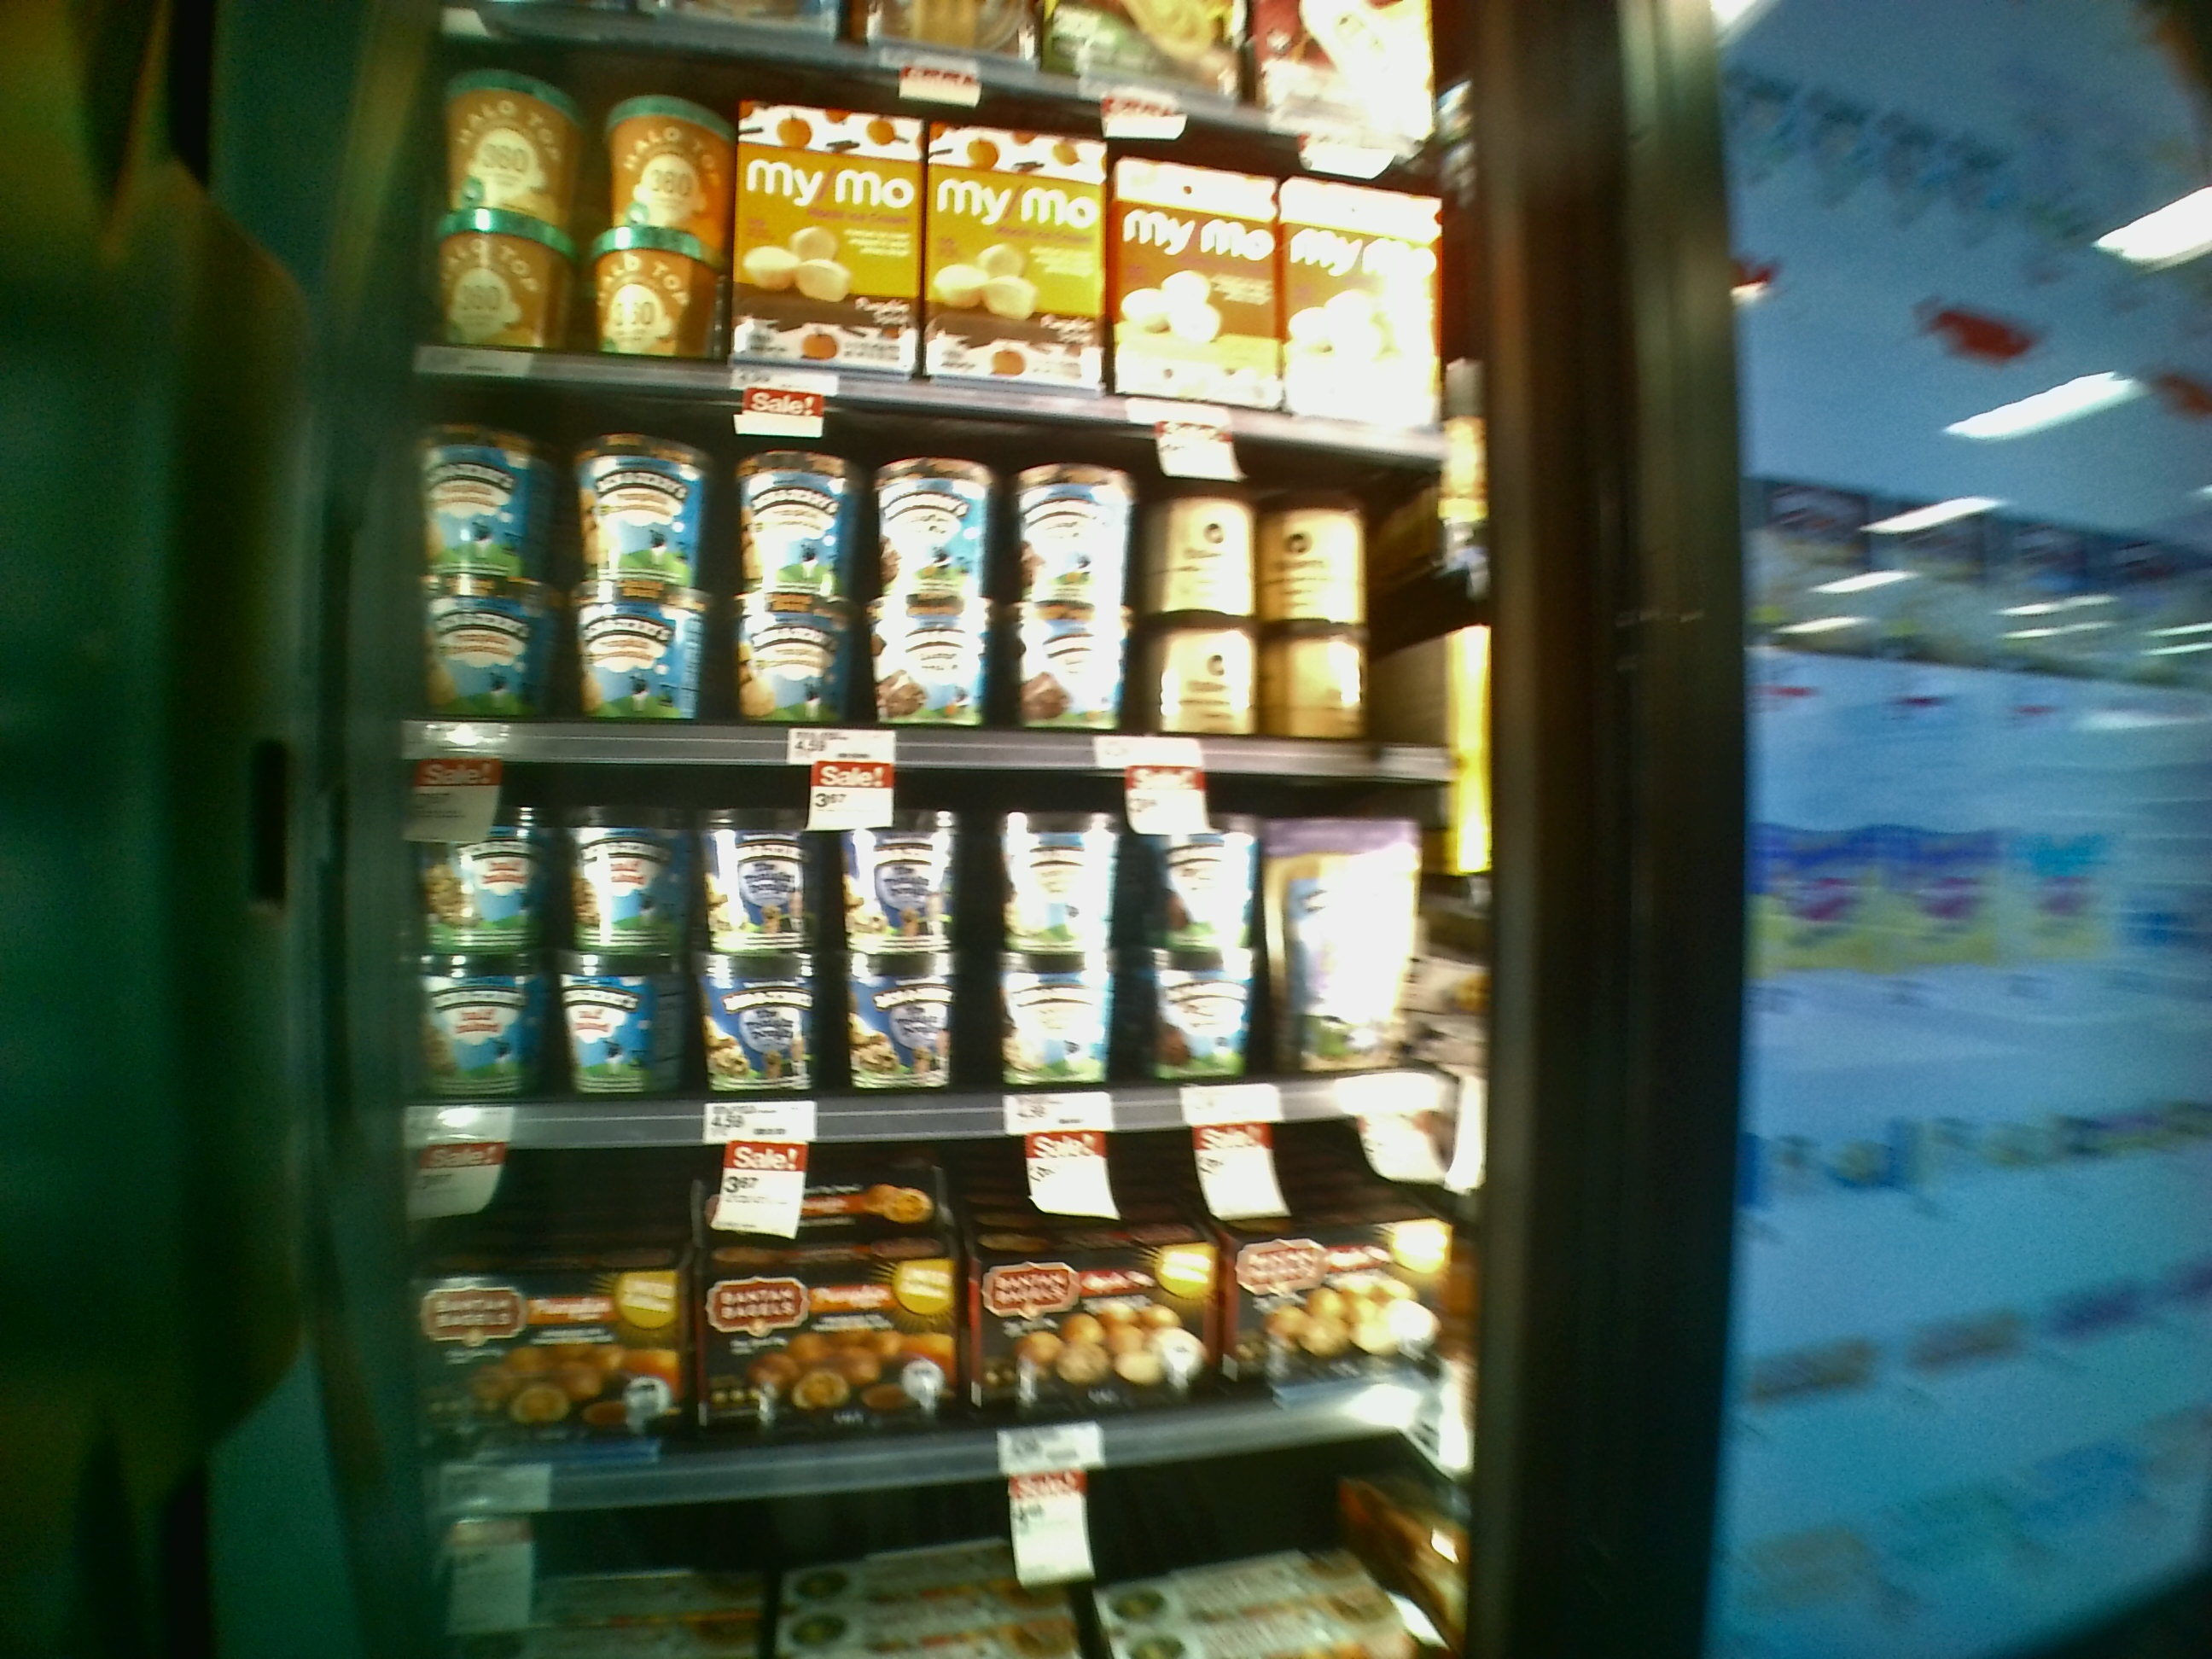shelf: (366, 380, 1501, 793), (359, 748, 1507, 1112), (361, 1100, 1439, 1452)
